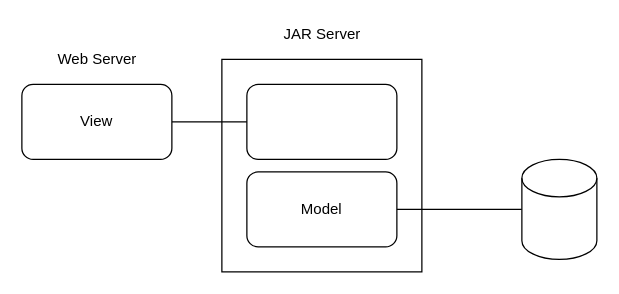
The diagram is 619 pixels wide and 294 high, and some of its shapes have lost their labels. Here are the shapes that lost their labels. From the top down, the centre of each, then its label:
(x=321, y=121): Controller
(x=559, y=208): DB
